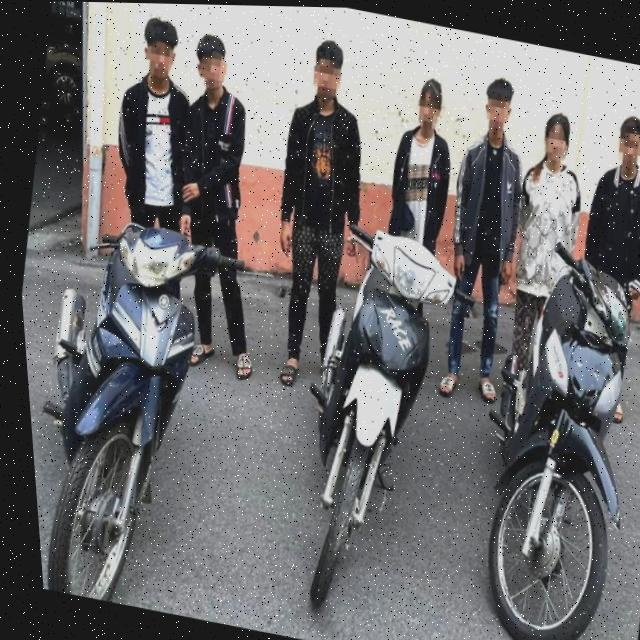motorcycle: (247, 171, 487, 640), (13, 176, 259, 619), (420, 203, 640, 640)
